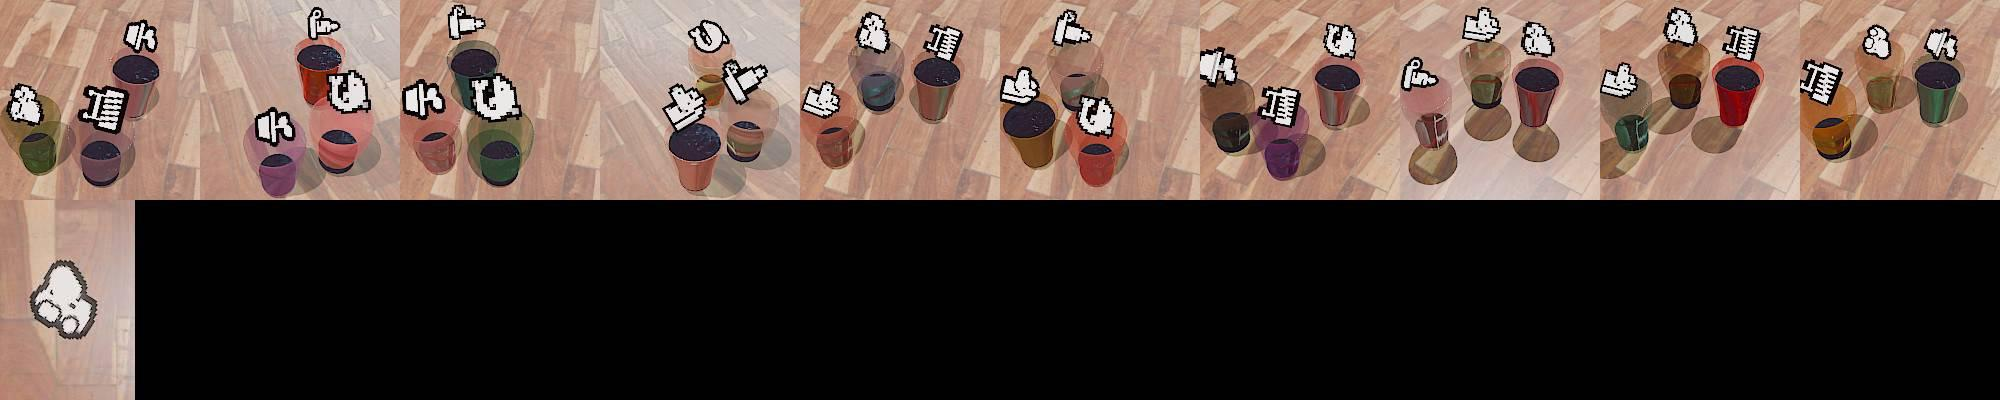icon: (28, 257, 99, 340), (468, 71, 523, 121), (77, 84, 129, 134), (661, 82, 707, 130), (721, 59, 767, 106), (325, 69, 372, 115), (1798, 59, 1842, 106), (1259, 85, 1302, 130), (1074, 94, 1116, 136), (254, 106, 297, 146), (403, 78, 446, 118), (999, 65, 1040, 106), (1051, 9, 1093, 48), (923, 22, 963, 64), (855, 10, 893, 54), (1199, 47, 1239, 87), (5, 83, 43, 124), (801, 80, 842, 118), (687, 18, 730, 55), (446, 3, 486, 39), (1601, 61, 1640, 98), (1462, 6, 1501, 43), (1663, 6, 1699, 47), (1722, 24, 1760, 61), (1401, 56, 1437, 92), (1520, 20, 1556, 57), (1321, 20, 1356, 59), (122, 19, 158, 54), (1925, 27, 1959, 61), (306, 6, 341, 39), (1862, 24, 1893, 60)
